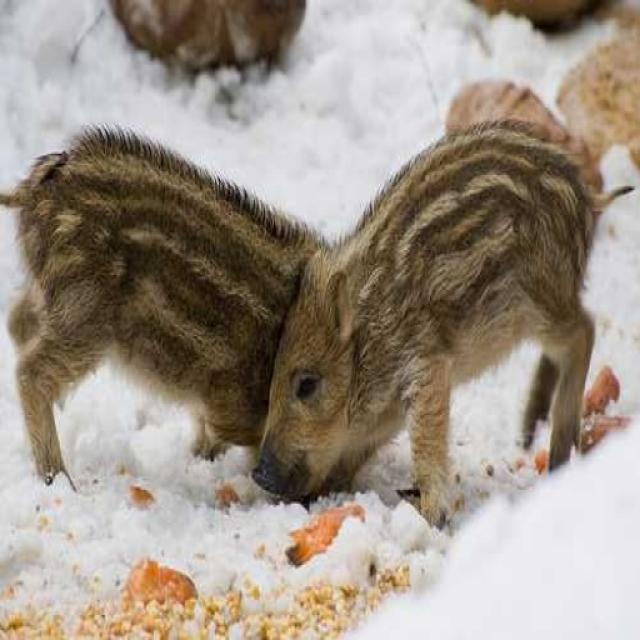pig: (249, 105, 612, 518), (8, 144, 335, 561)
